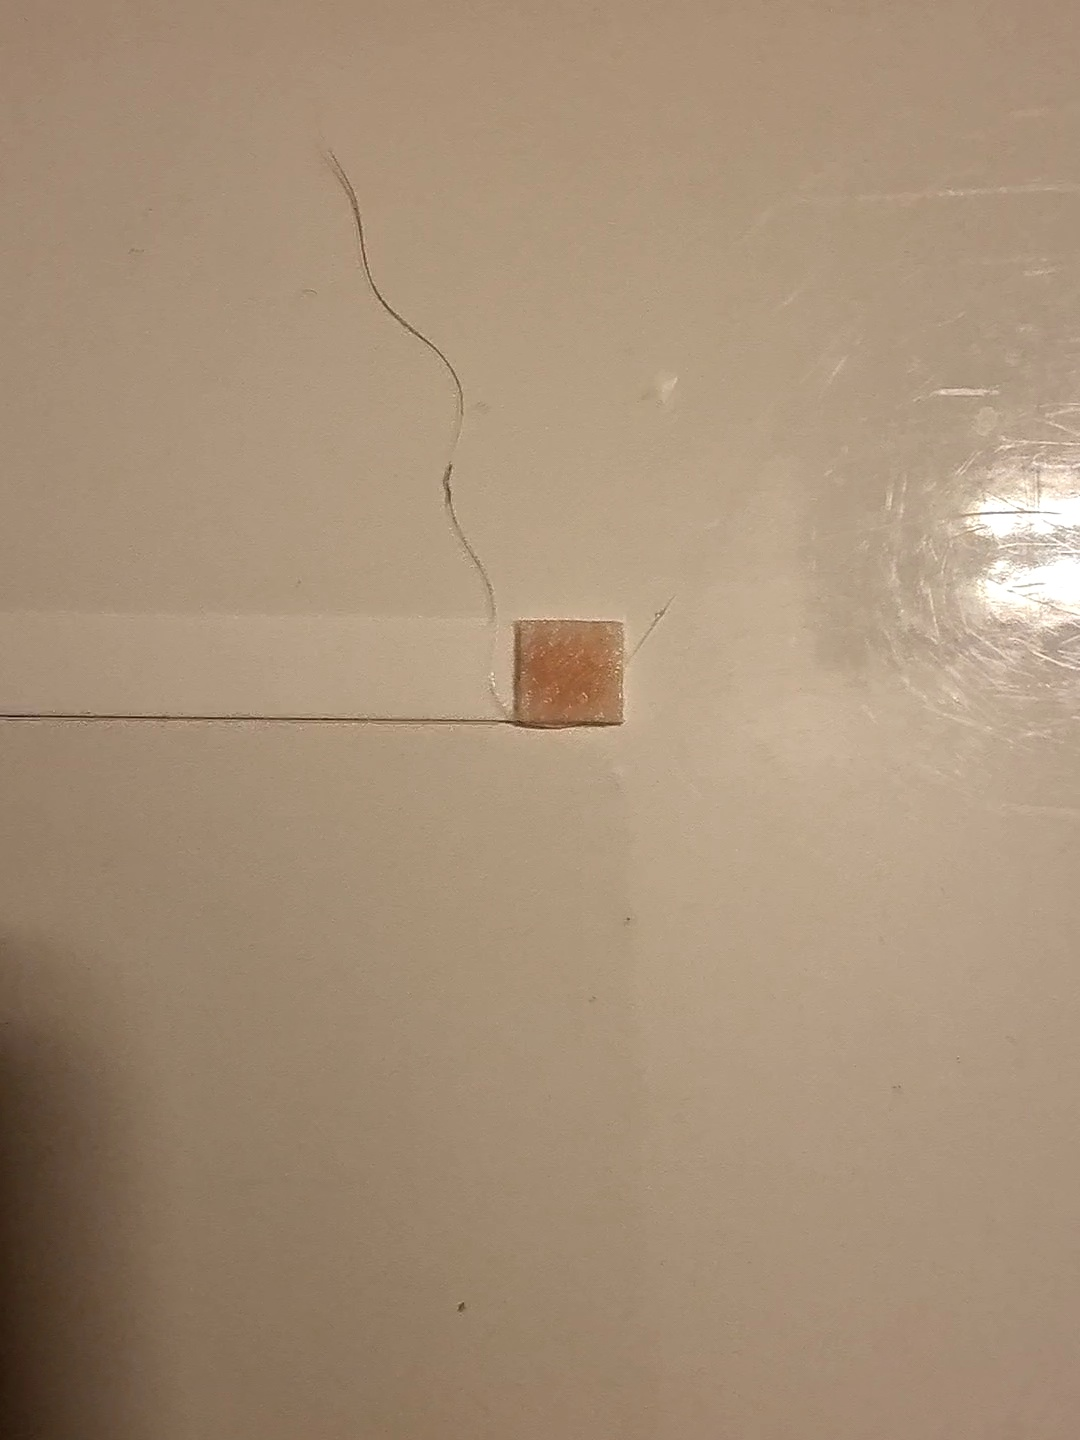keto-tip: (508, 615, 631, 735)
